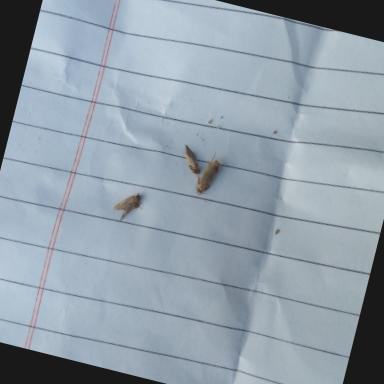pbw: (188, 147, 224, 204), (110, 188, 146, 228), (177, 144, 205, 179)
